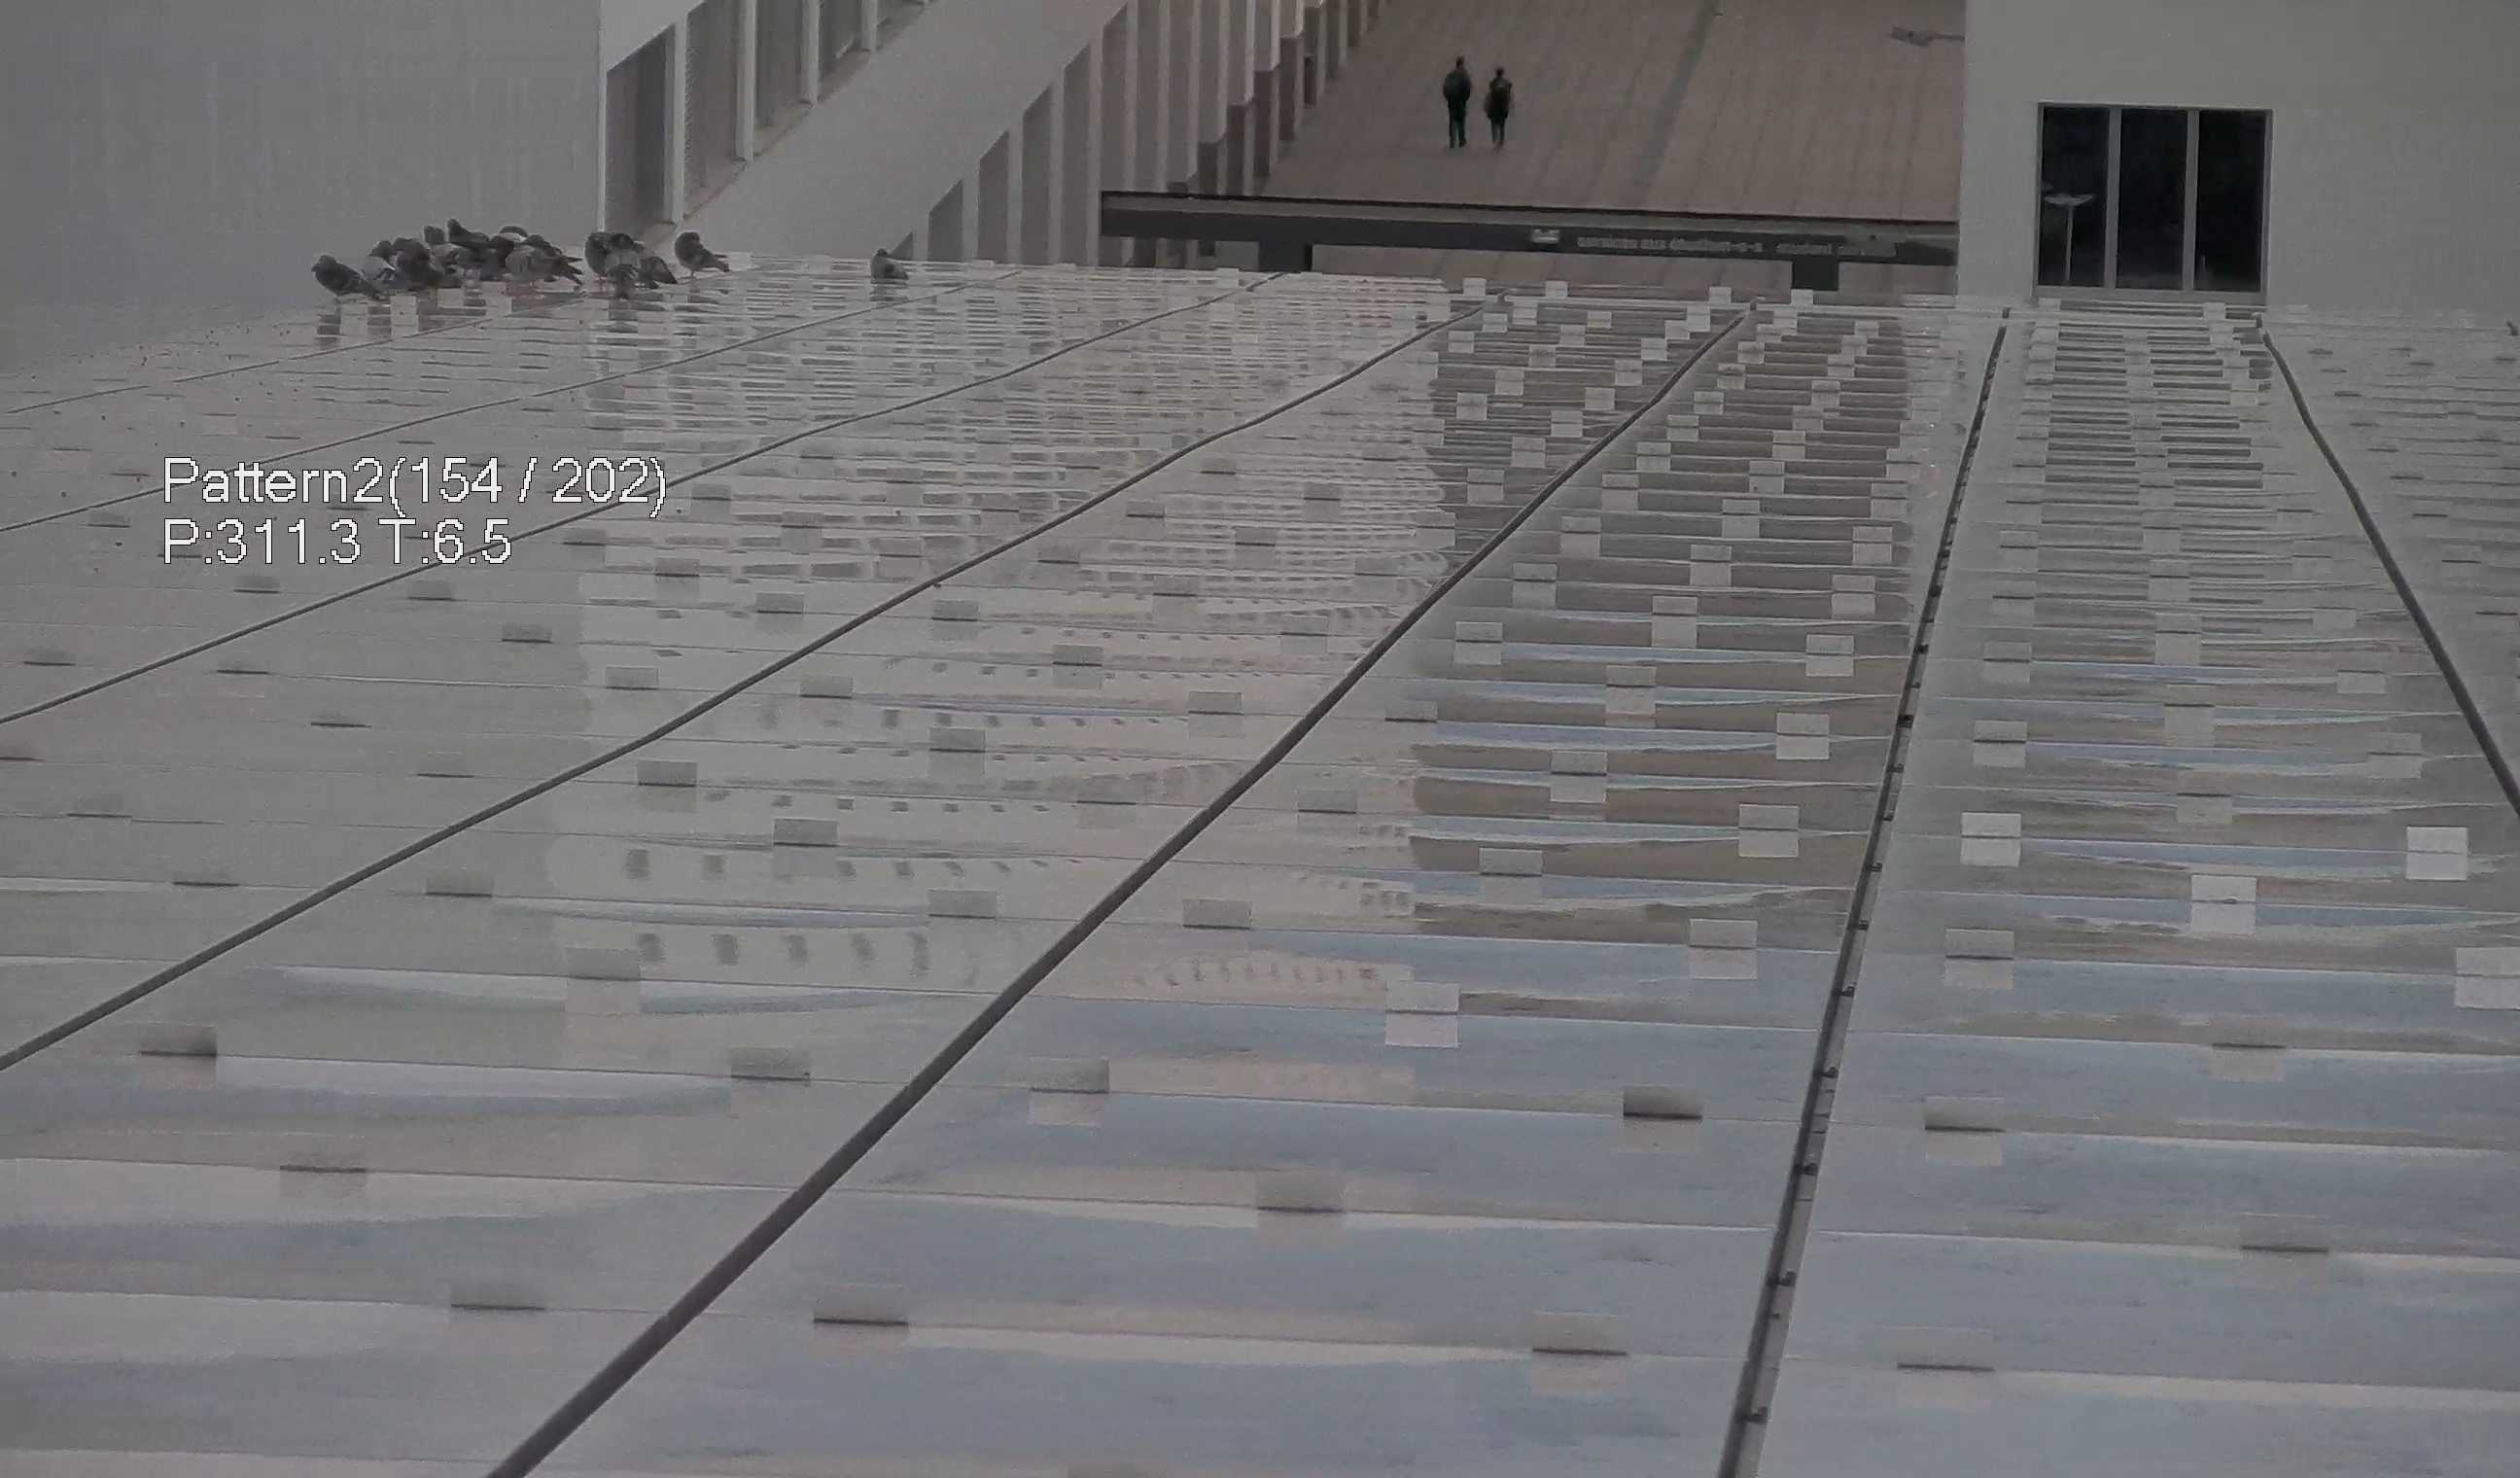Pigeon: (501, 246, 580, 296), (668, 223, 735, 280), (306, 250, 378, 301), (366, 245, 419, 297), (856, 246, 916, 285), (603, 248, 644, 299), (584, 227, 630, 259), (496, 220, 531, 246), (445, 215, 468, 246)
